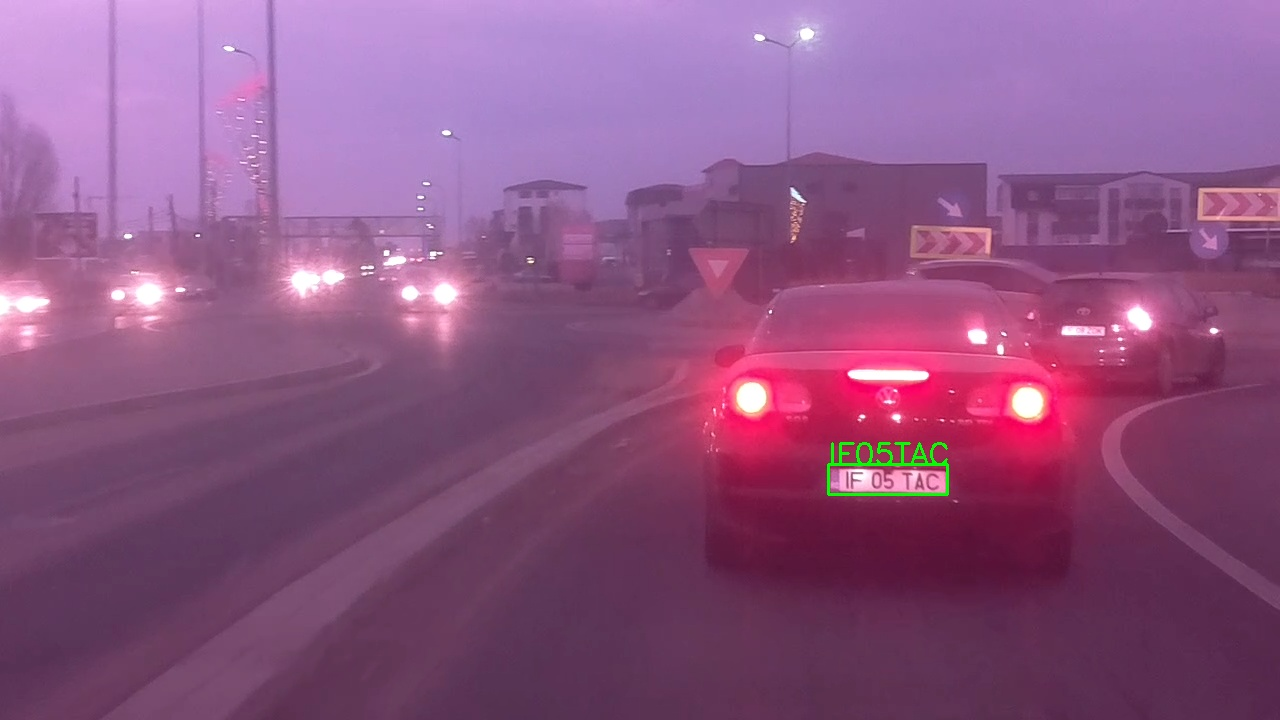license-plate: (828, 464, 948, 495)
